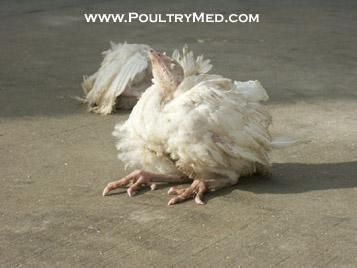AbNormal: (102, 50, 272, 208), (85, 40, 162, 118)
